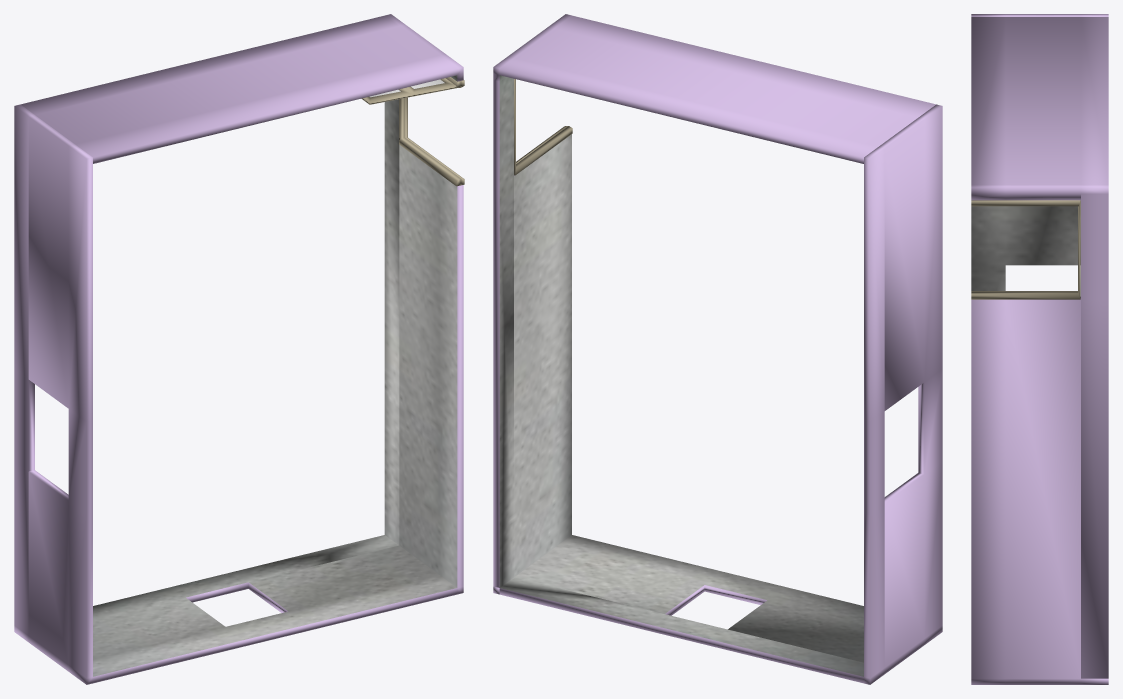
File: wall_bedroom_v3.fbx
3 views of the same model, side by side, from view 1: azimuth 30°, elevation 25°; view 2: azimuth 150°, elevation 25°; view 3: azimuth 270°, elevation 25° (orthographic). The views are drawn at different scales.
Visible parts, largest first — view 1: Cube.001, FRAME01_WOOD_-_DR2, Door-right_WOOD_-.001; view 2: Cube.001, FRAME01_WOOD_-_DR2; view 3: Cube.001, FRAME01_WOOD_-_DR2.
Part boxes in pixels (x1,y1,x2,y2): Cube.001: [14, 14, 463, 684]; FRAME01_WOOD_-_DR2: [399, 77, 464, 186]; Door-right_WOOD_-.001: [361, 78, 457, 104]; Cube.001: [493, 14, 942, 684]; FRAME01_WOOD_-_DR2: [514, 79, 572, 175]; Cube.001: [971, 14, 1108, 684]; FRAME01_WOOD_-_DR2: [971, 200, 1080, 299].
Size of the model in its own units: 0.0301 by 0.04 by 0.01.
Materials: 5 (1 with a texture image).
